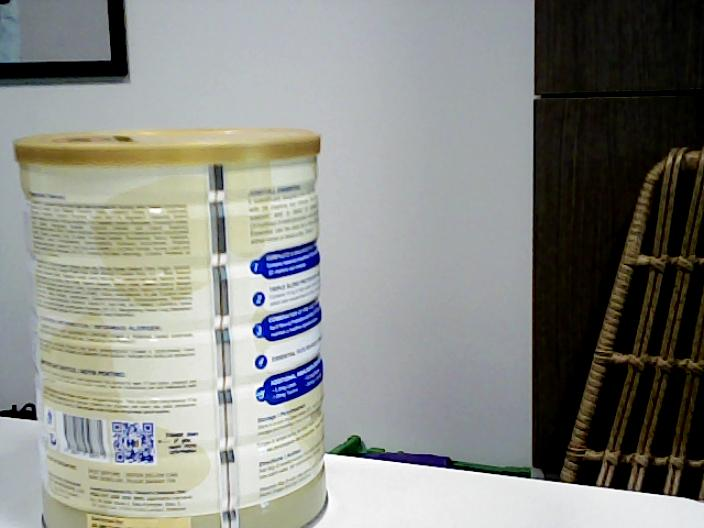Adult_Milk_800-899g_Halal_NonHealthy: (18, 129, 330, 528)
